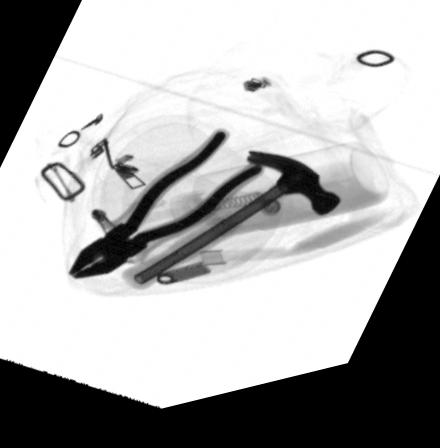Hammer: (118, 162, 342, 299)
Pliers: (69, 138, 268, 281)
